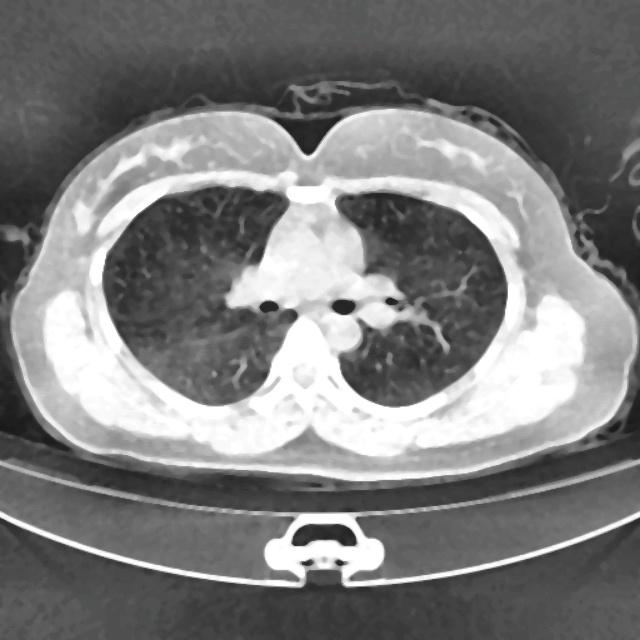covid: (6, 89, 637, 487)
